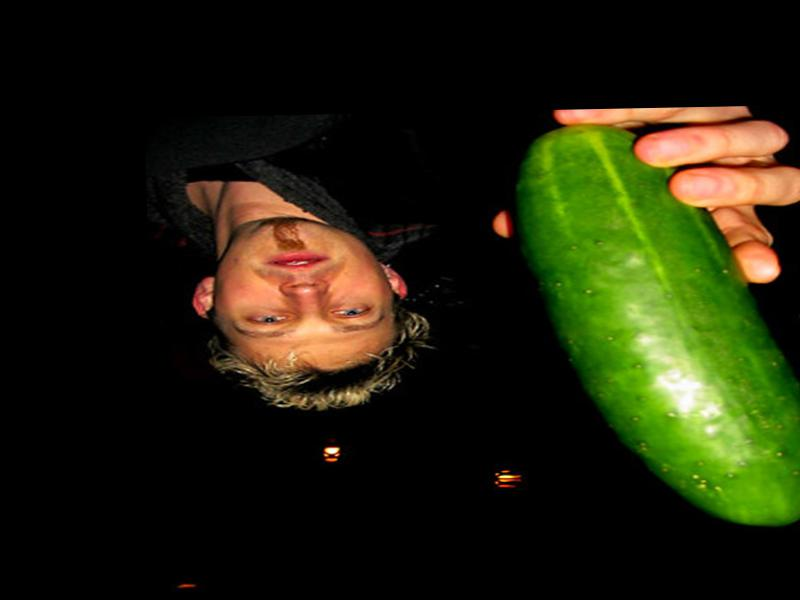Cucumber: (519, 123, 800, 528)
